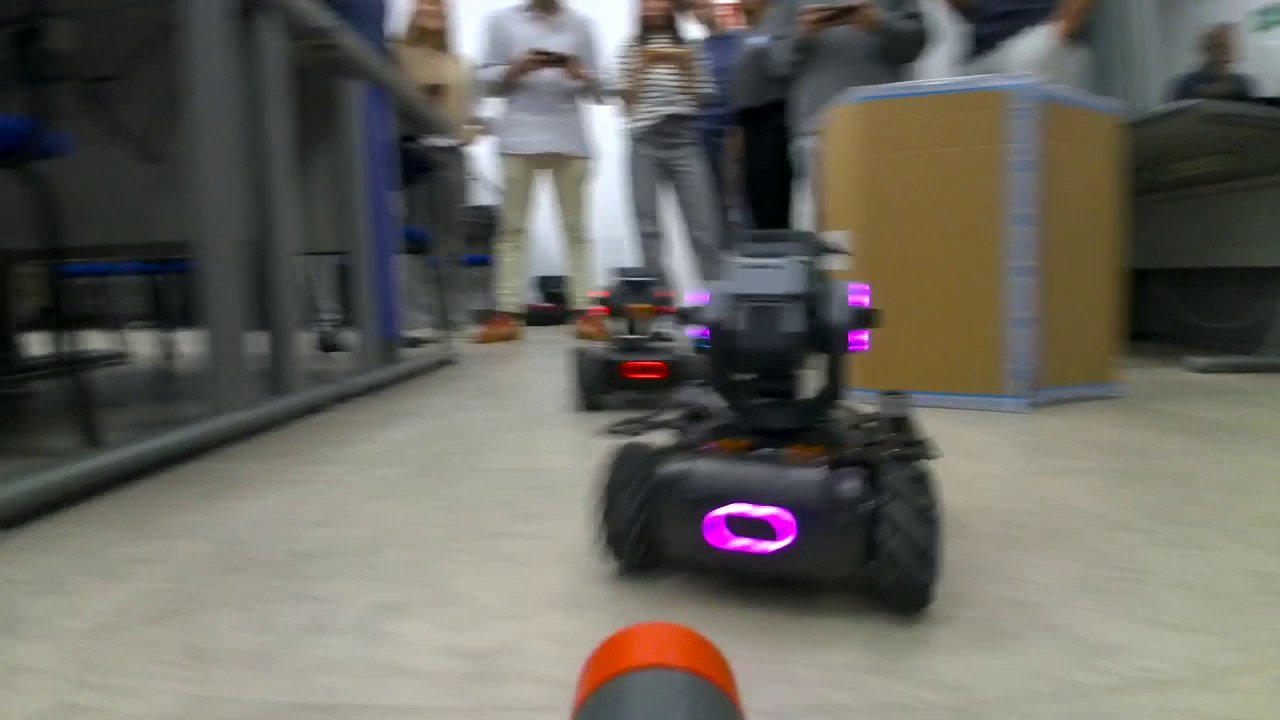robot: (596, 228, 940, 610)
